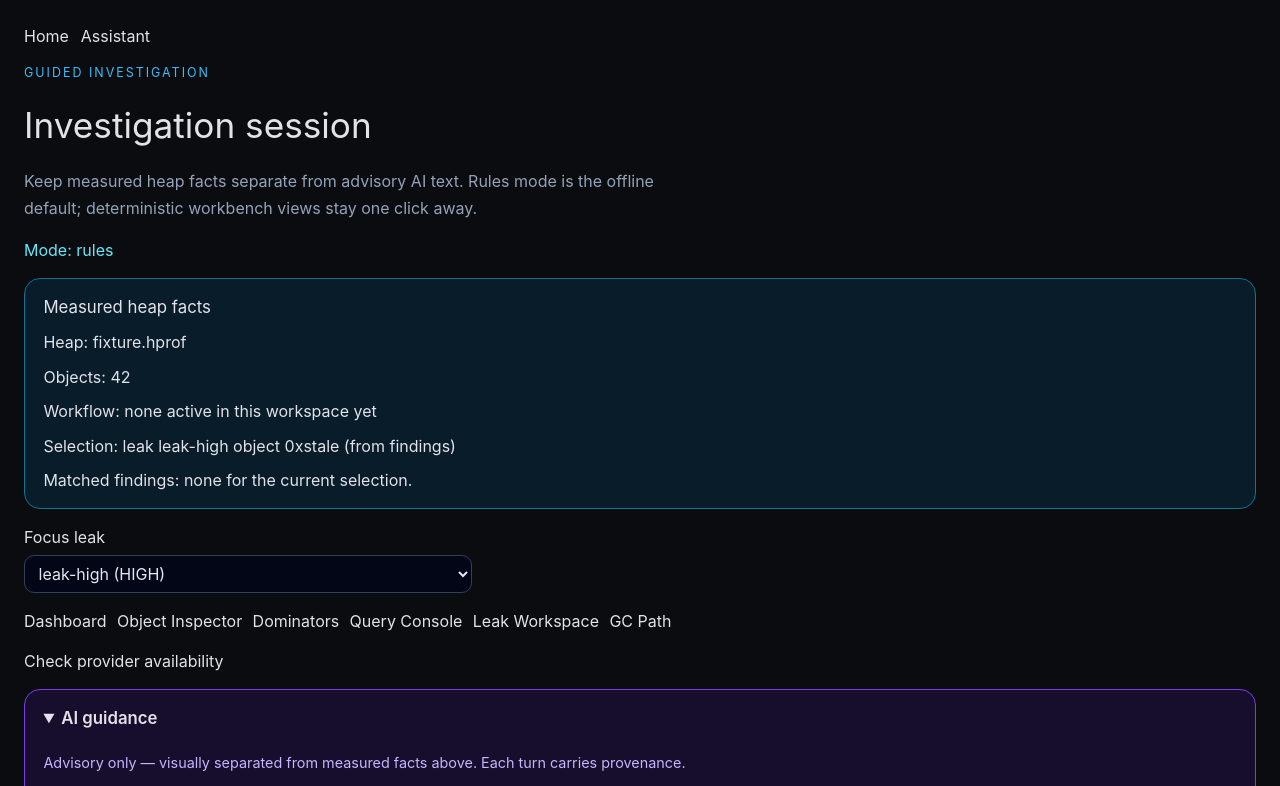
Scenario: InvestigationAssistantPage › updates focus when the selected leak changes
Select "leak-low (LOW)" in the dropdown labelled "Focus leak" at (248, 574), box [24,555,472,593]
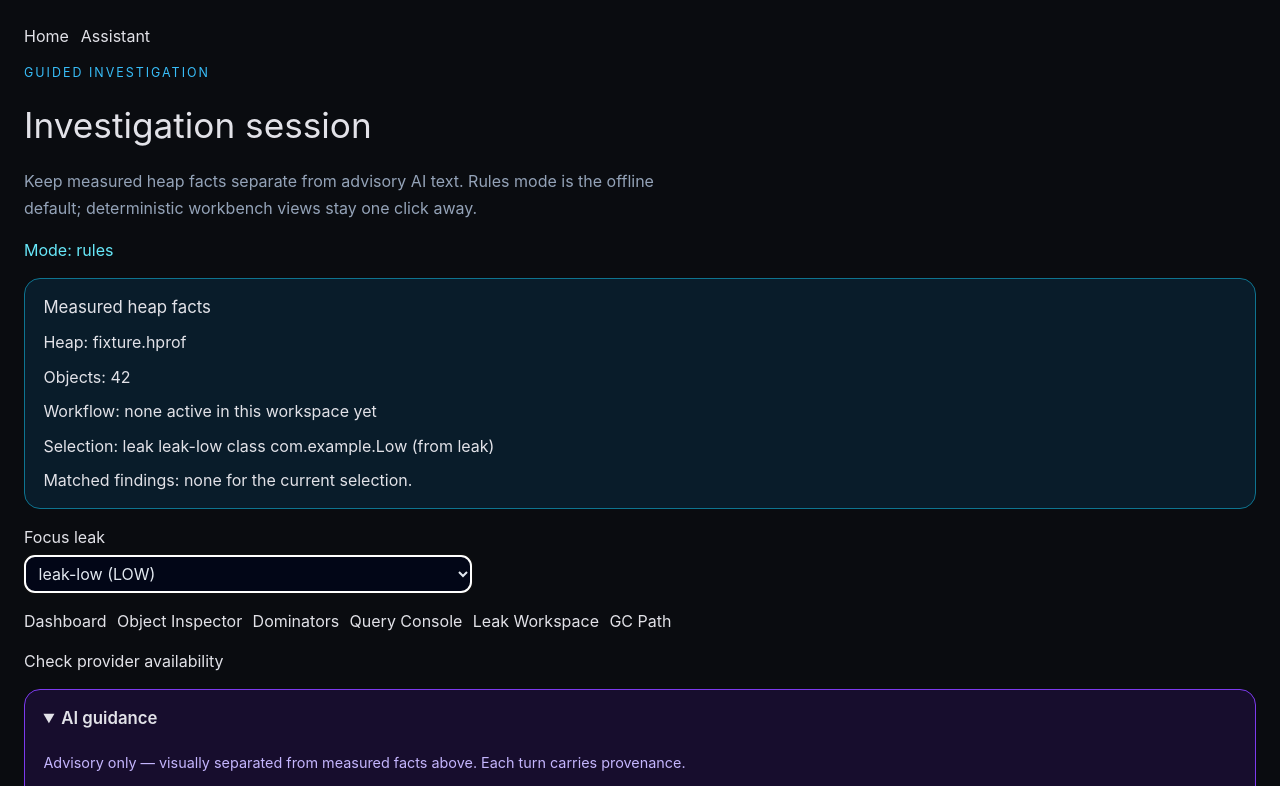
Check: the text "Selection: leak leak-low class com.example.Low (from leak)" is shown, box [43,436,494,456]
